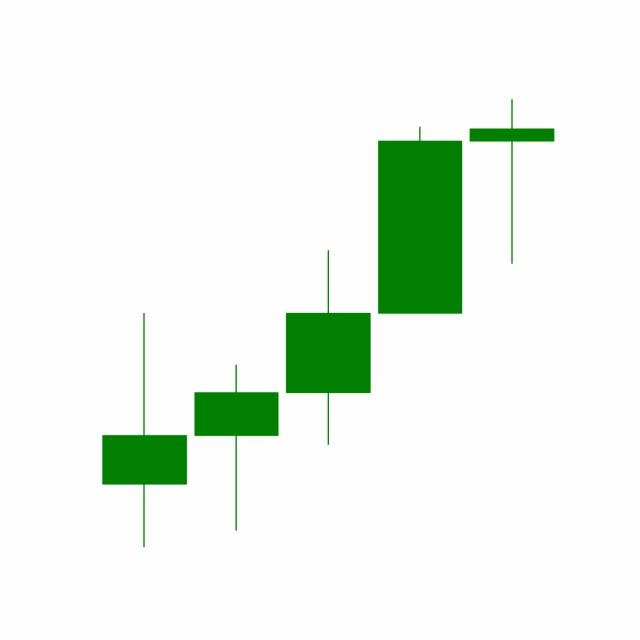Marubozu: (373, 123, 467, 315)
